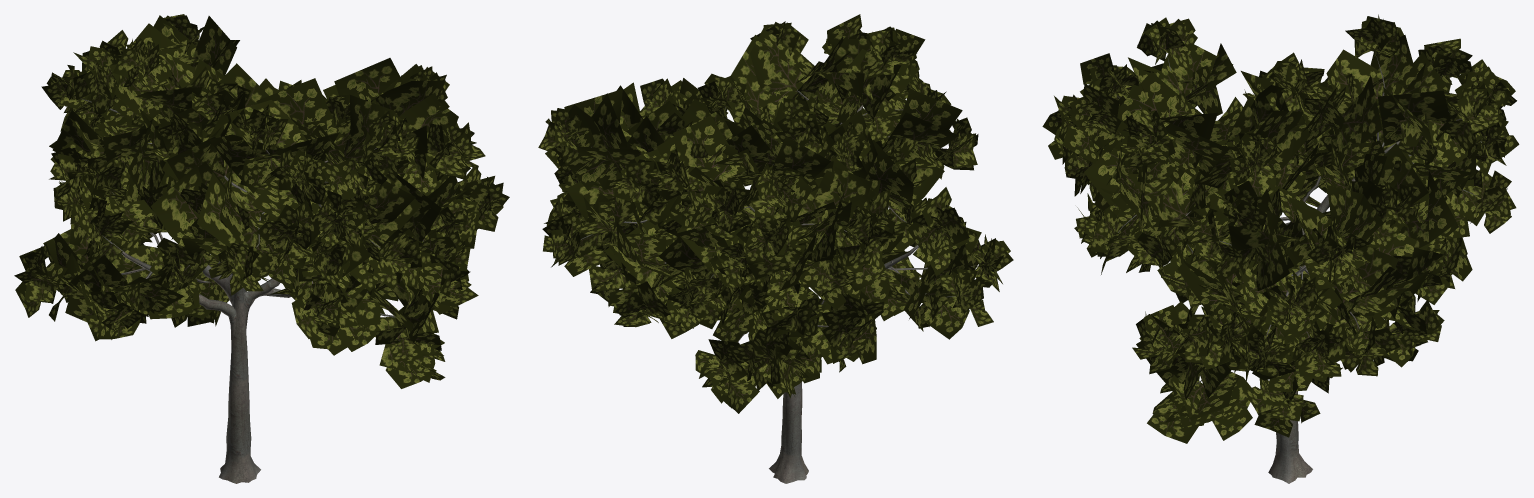
The model's file is SM_KYT_MapleTree01.fbx.
3 renders of one model, left to right at view 1: azimuth 30°, elevation 25°; view 2: azimuth 150°, elevation 25°; view 3: azimuth 270°, elevation 25°, orthographic. The views are drawn at different scales.
Visible parts, largest first — view 1: SM_KYT_MapleTree01_LOD0; view 2: SM_KYT_MapleTree01_LOD0; view 3: SM_KYT_MapleTree01_LOD0.
Boxes of the visible parts, x1=… form: SM_KYT_MapleTree01_LOD0: x1=14, y1=14, x2=509, y2=483; SM_KYT_MapleTree01_LOD0: x1=538, y1=14, x2=1013, y2=483; SM_KYT_MapleTree01_LOD0: x1=1042, y1=14, x2=1519, y2=483.
Size of the model in its own units: 1184 by 1029 by 1032.
Materials: 2 (2 with a texture image).
